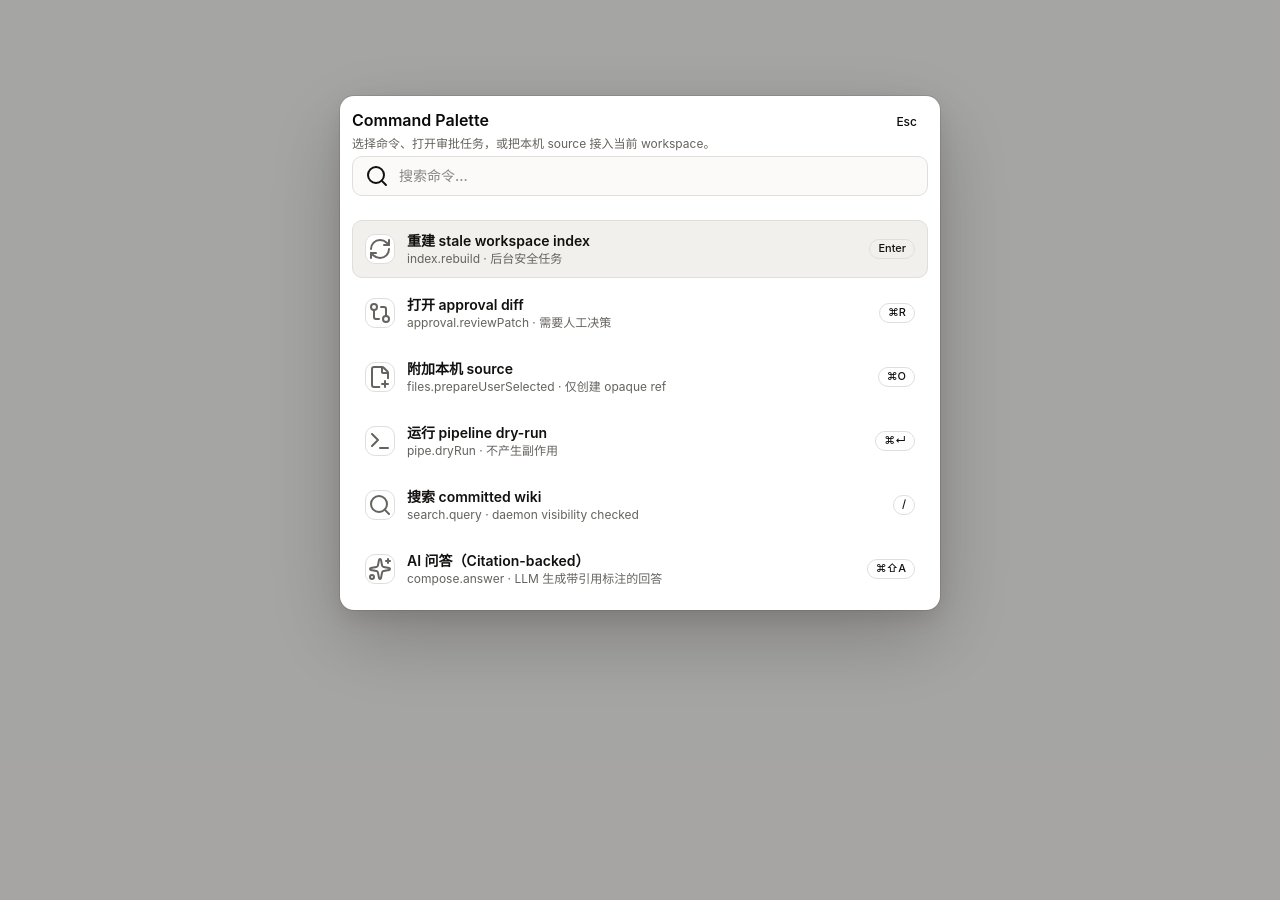
Test case: CommandPalette › filters_commands_by_query
The image size is (1280, 900).
Type "approval" into the field with test id "command-palette-input".
click(657, 176); type("approval")  # box left=399, top=166, right=915, bottom=186
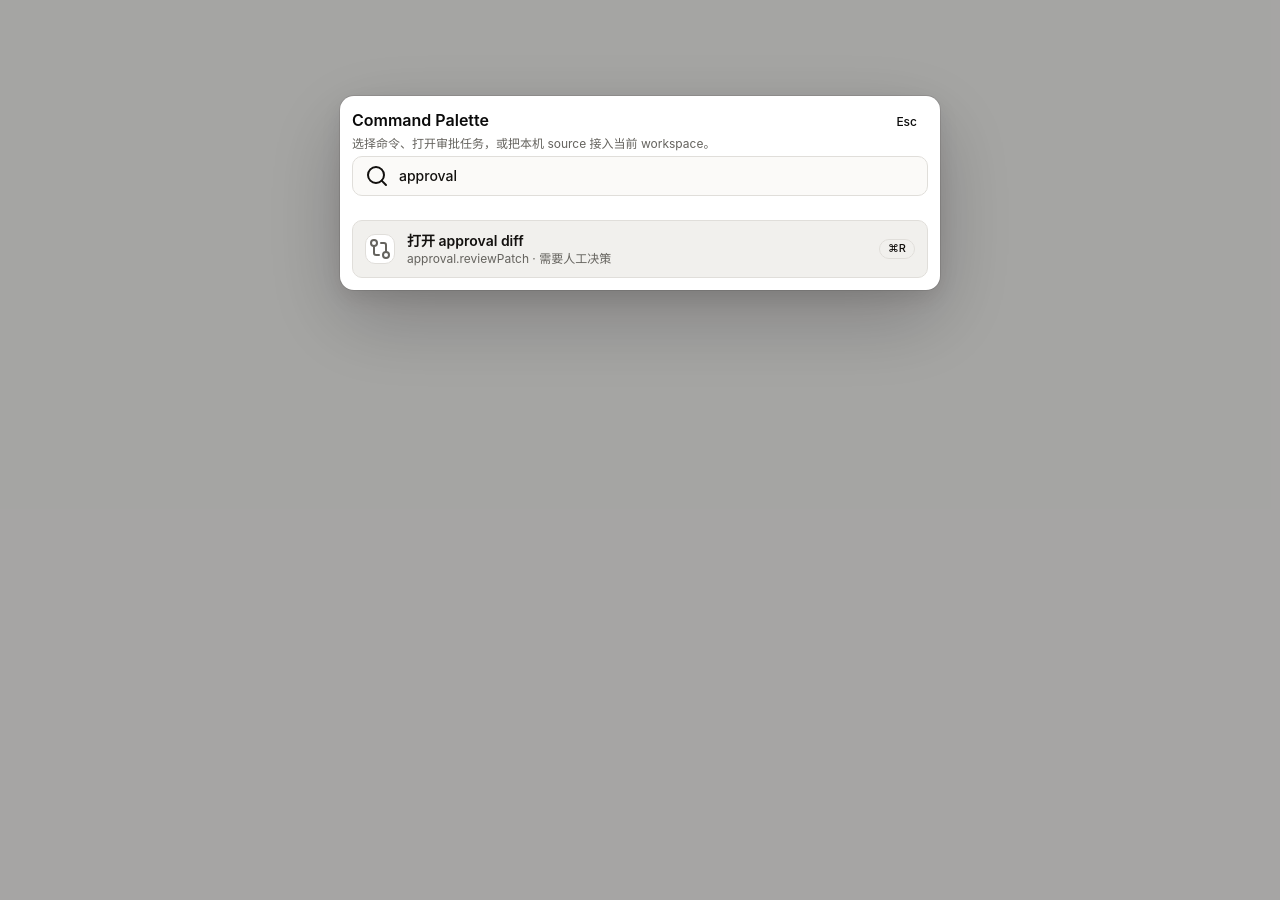
Expected: the option with test id "command-row-approval-review" is shown, left=352, top=220, right=928, bottom=278
Expected: the option with test id "command-row-index-rebuild" is gone
